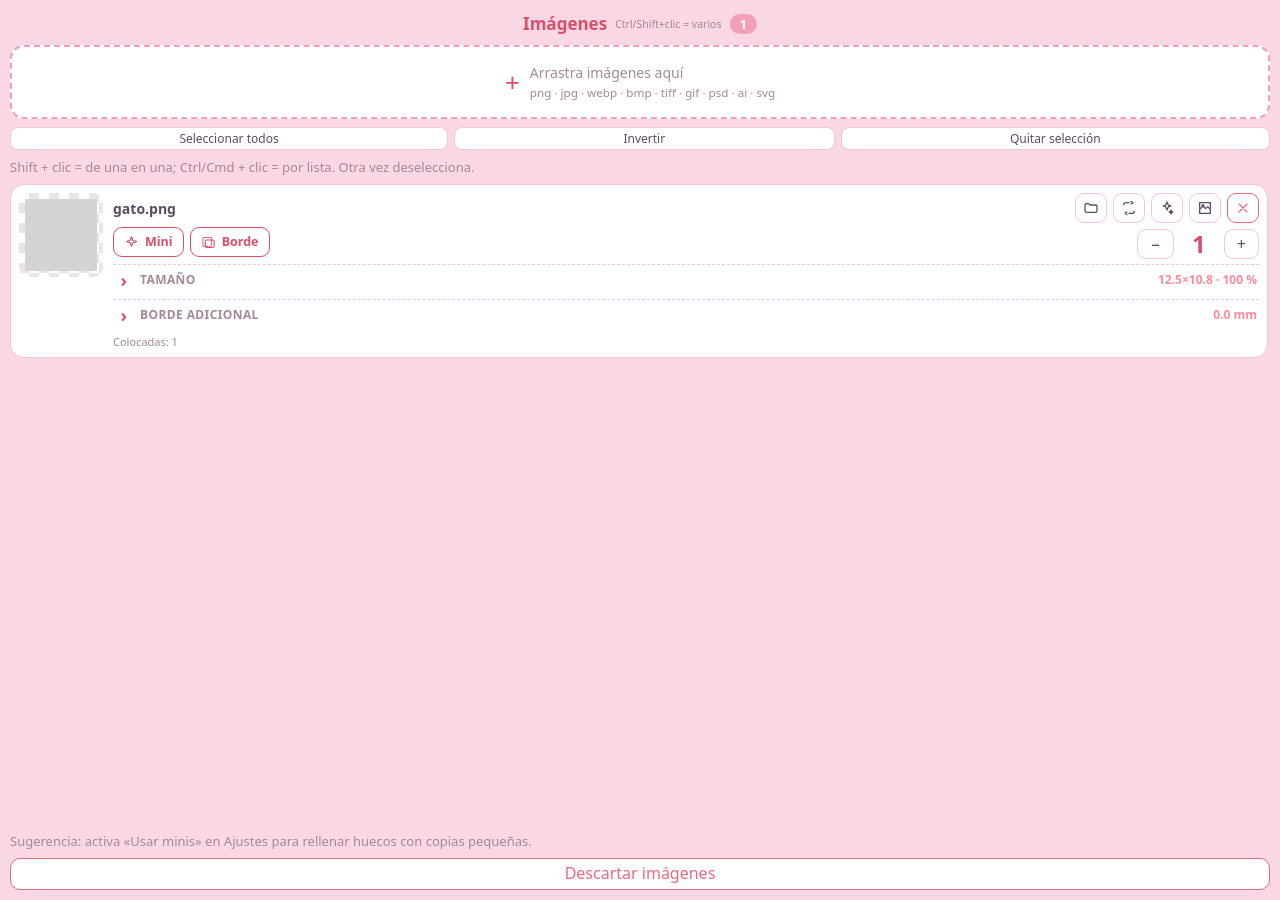
Panel de archivos › permite fijar el tamaño exacto en mm por ancho o por alto
This screenshot has width=1280, height=900.
Click the button with test id "fold-tamano-a1" at (168, 280), box [113, 265, 1259, 295]
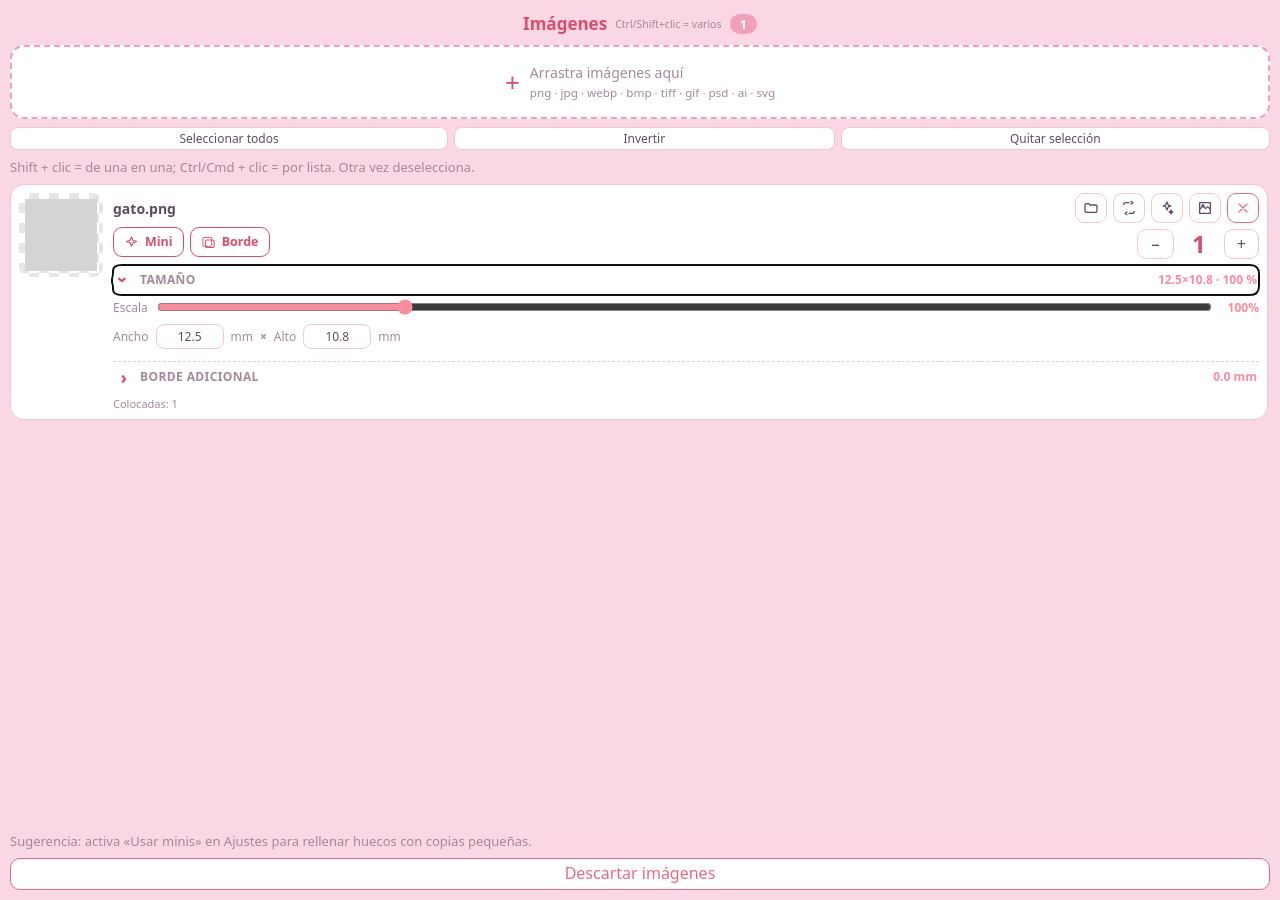
Check: the number field with test id "ancho-mm-a1" holds "12.5"
Check: the number field with test id "alto-mm-a1" holds "10.8", box [303, 324, 371, 349]
Note: fijando el ancho (tamaño FINAL, con borde), el alto se ajusta solo
Replace the text in the number field with test id "ancho-mm-a1" with "20.94" at (190, 337), box [156, 324, 224, 349]
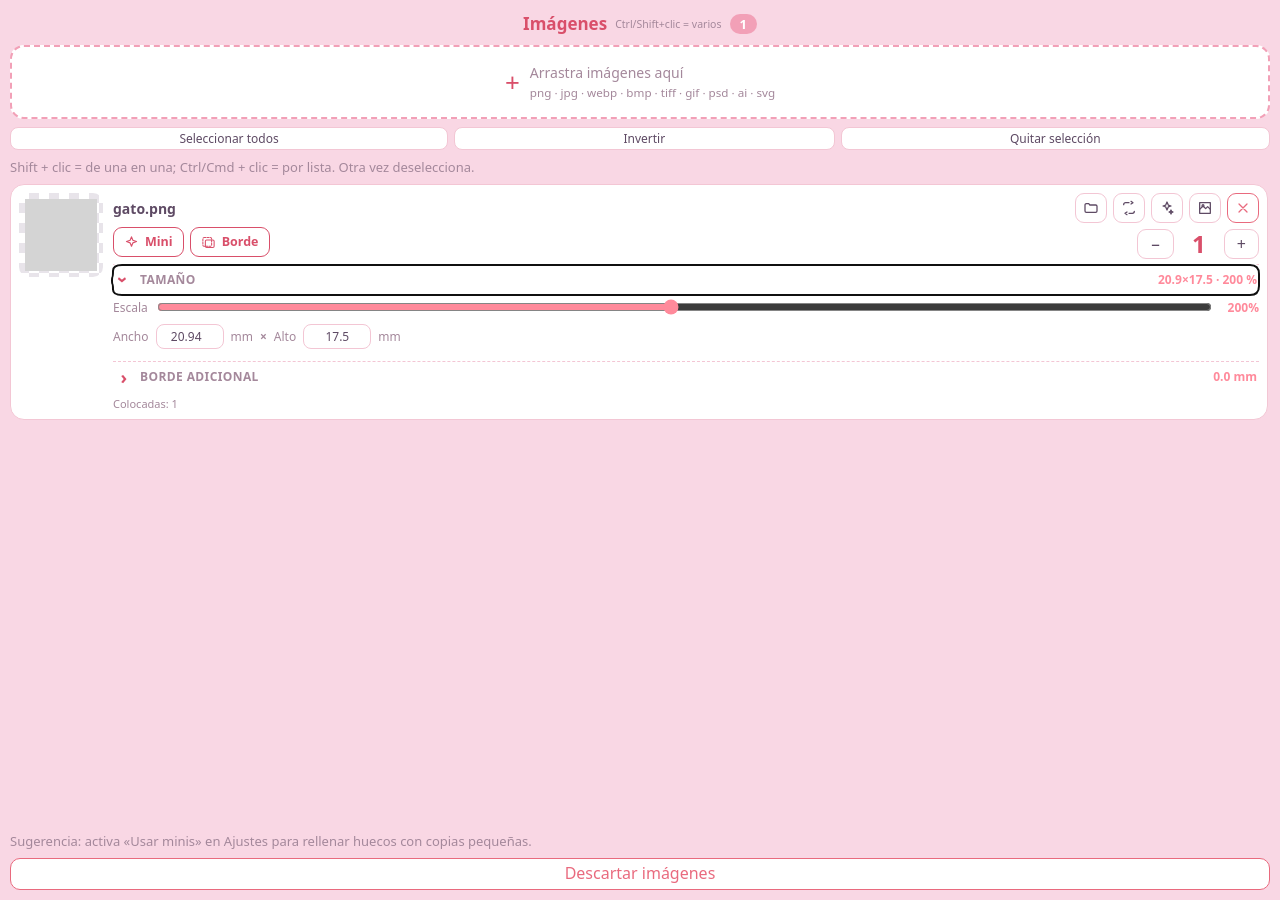
Check: the text with test id "tamano-a1" shows "20.9×17.5", box [1158, 274, 1257, 286]
Check: the number field with test id "alto-mm-a1" holds "17.5"
Check: the text "200%" is shown, box [1228, 299, 1259, 316]
Note: y fijando el alto, el ancho se ajusta solo
Replace the text in the number field with test id "alto-mm-a1" with "24.31" at (337, 337), box [303, 324, 371, 349]
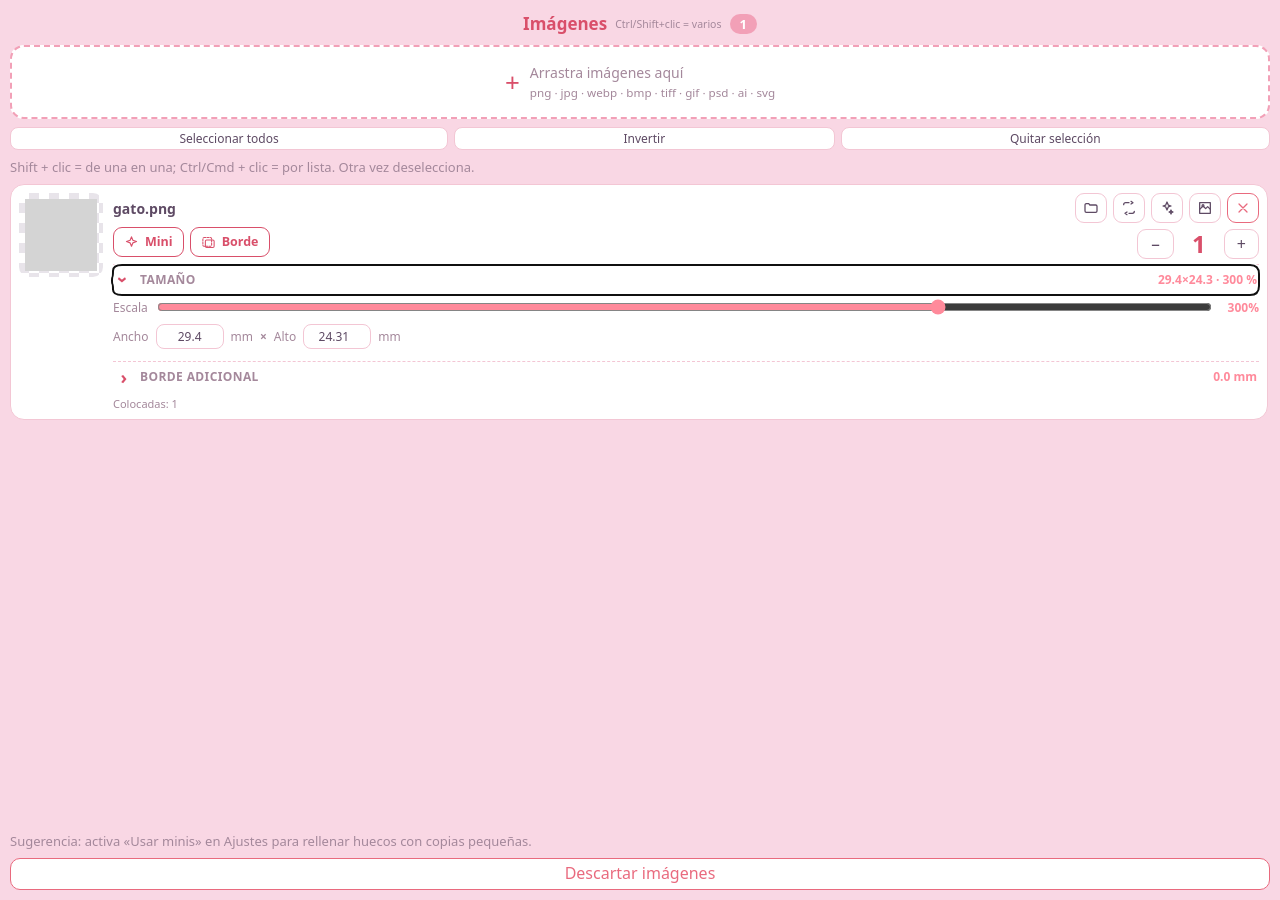
Check: the text with test id "tamano-a1" shows "29.4×24.3", box [1158, 274, 1257, 286]
Check: the number field with test id "ancho-mm-a1" holds "29.4", box [156, 324, 224, 349]
Check: the text "300%" is shown, box [1228, 299, 1259, 316]
